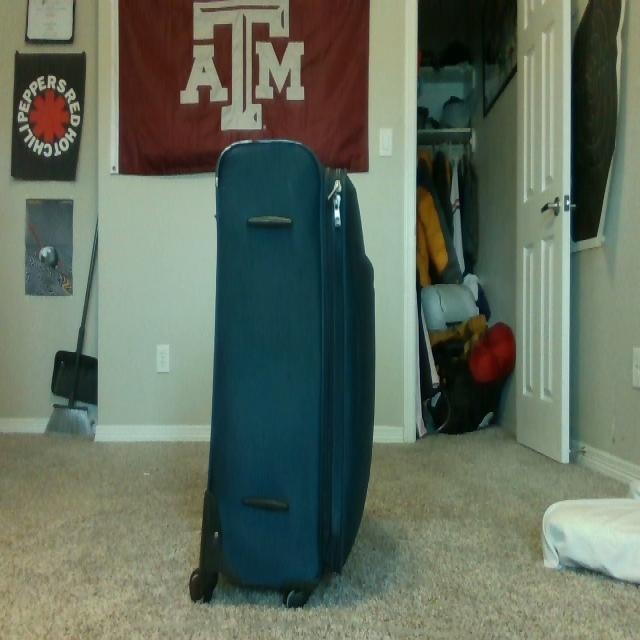suitcase: (188, 136, 378, 609)
